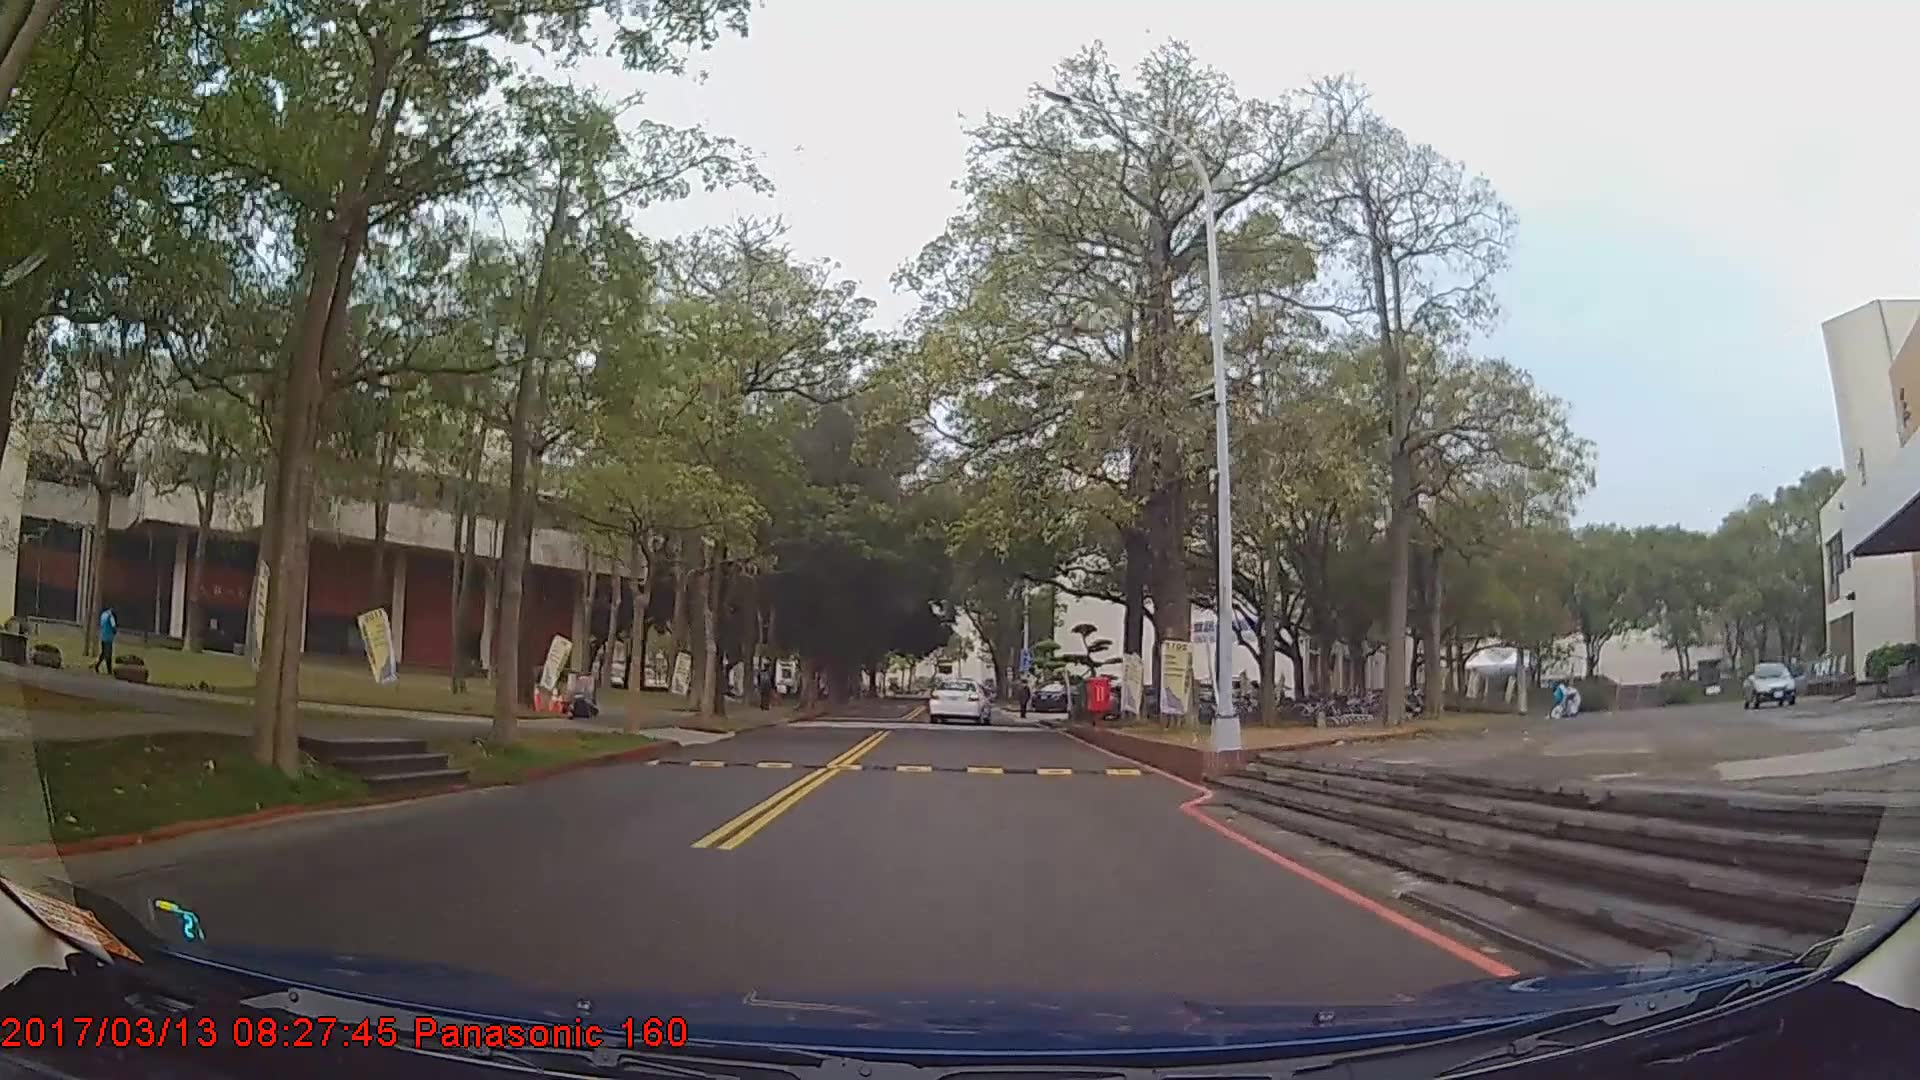pedestrian: (96, 602, 120, 679), (753, 664, 775, 713)
vehicle: (1740, 656, 1812, 707), (929, 678, 991, 725)
